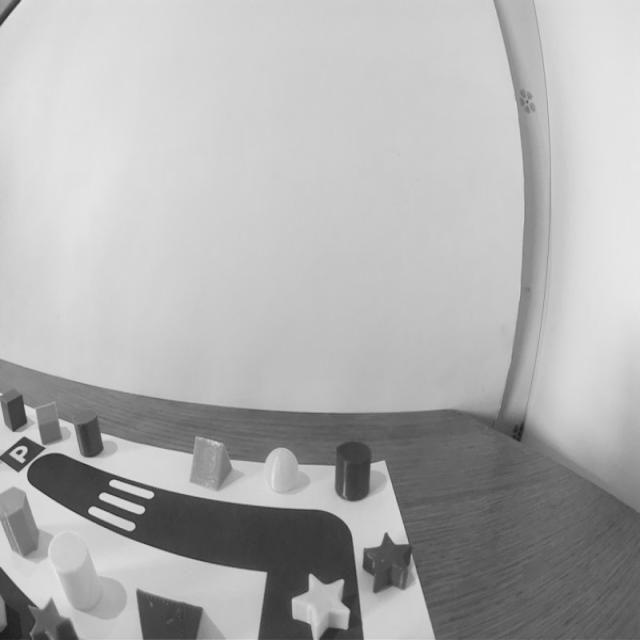ball: (260, 442, 304, 499)
cube: (0, 386, 31, 436)
cylinder: (46, 525, 105, 616), (333, 431, 373, 506), (70, 404, 106, 460)
hexagon: (0, 481, 42, 555)
home: (34, 398, 66, 447)
star: (357, 522, 419, 602), (19, 591, 83, 640)
stop: (288, 560, 354, 640)
triangle: (186, 430, 236, 495)
